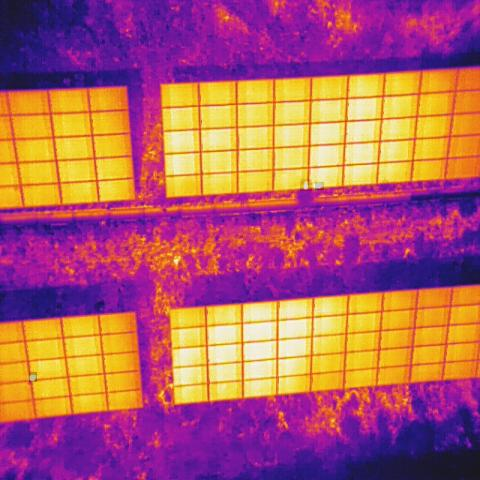fault: (300, 179, 312, 191), (30, 372, 38, 382), (315, 182, 324, 190)
